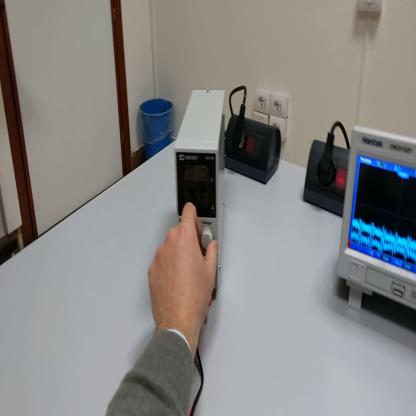hand: (148, 202, 219, 337)
oscilloscope: (337, 122, 416, 315)
power supply: (170, 92, 223, 292)
socket: (225, 114, 285, 187), (305, 137, 349, 219)
